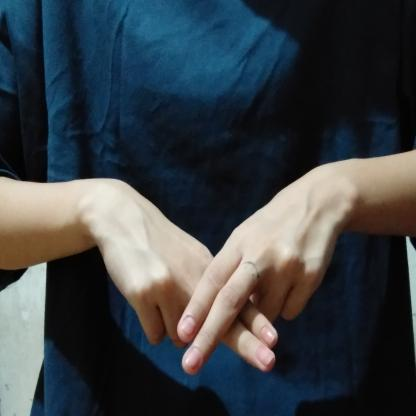father: (72, 156, 360, 386)
